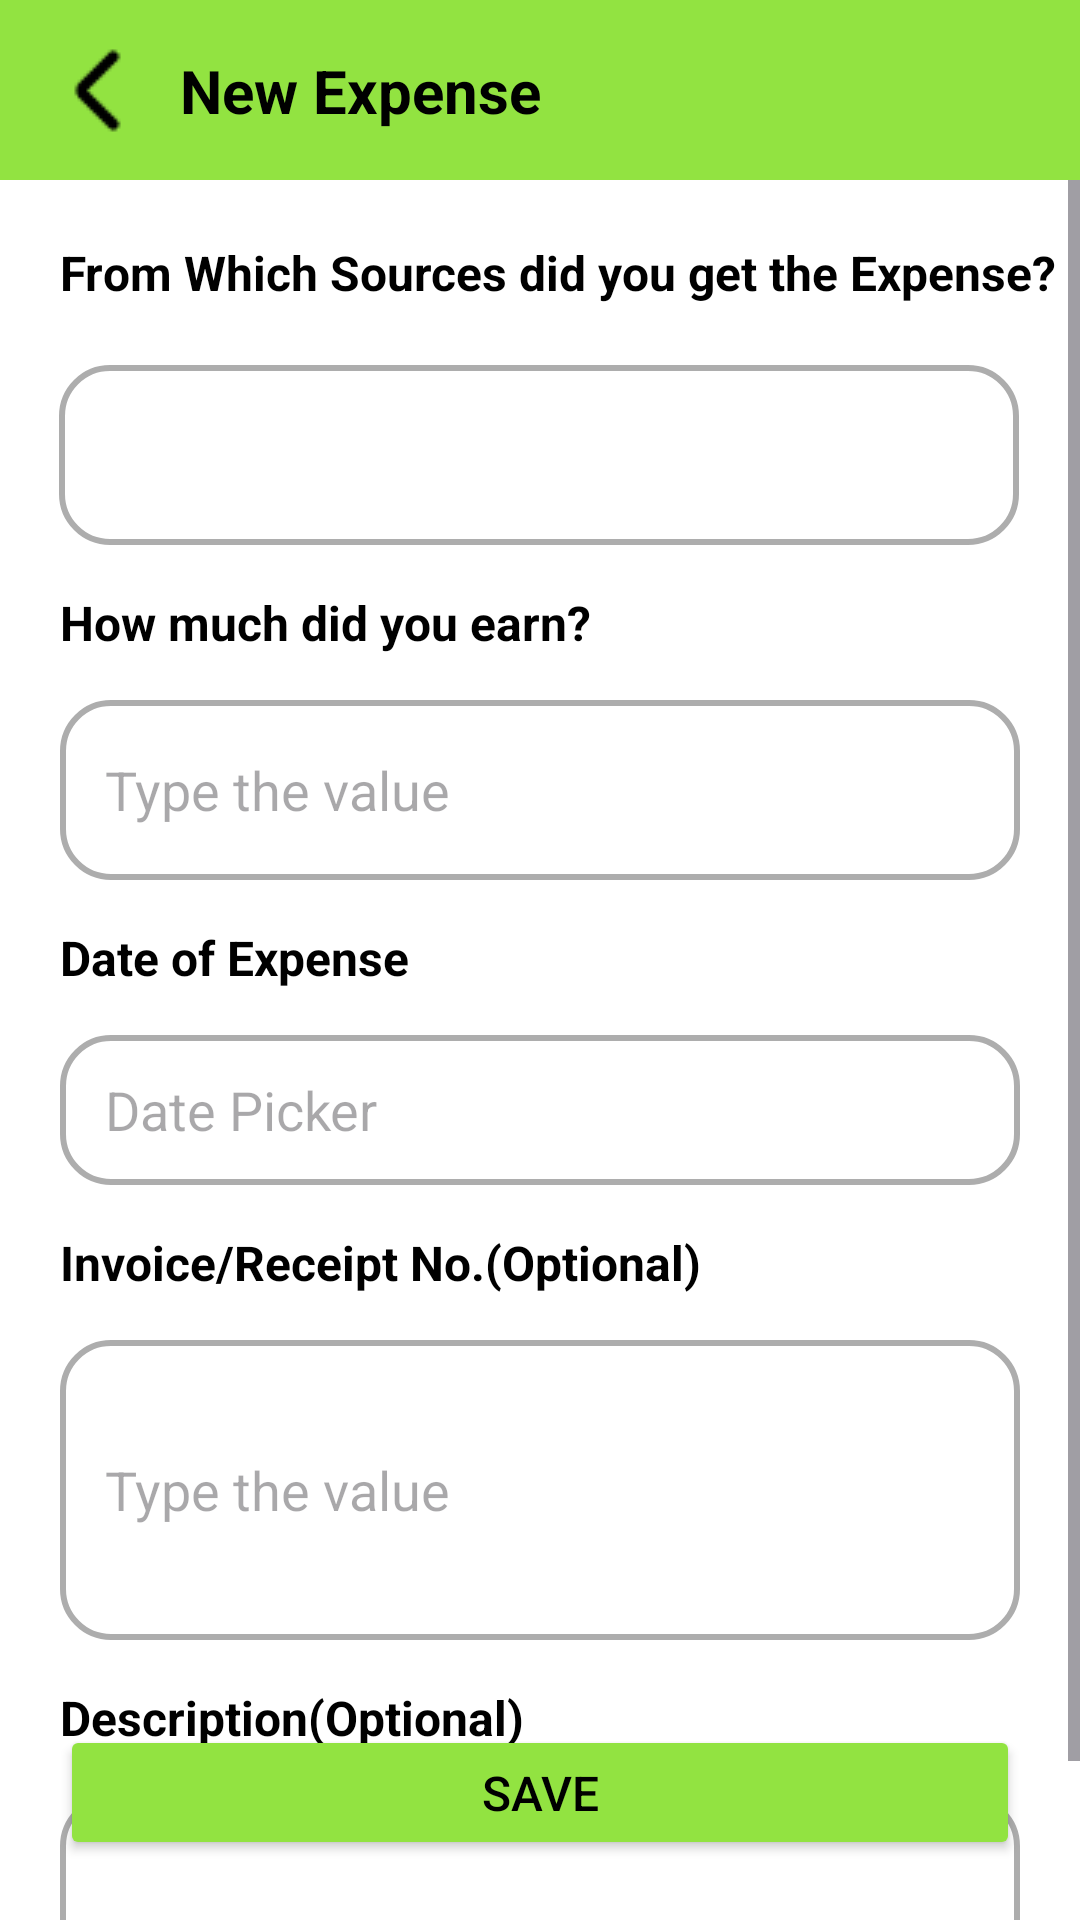

Where to tap for icons on this 1080 × 1920 app screen, as [x,y]:
back arrow: [97,90]
